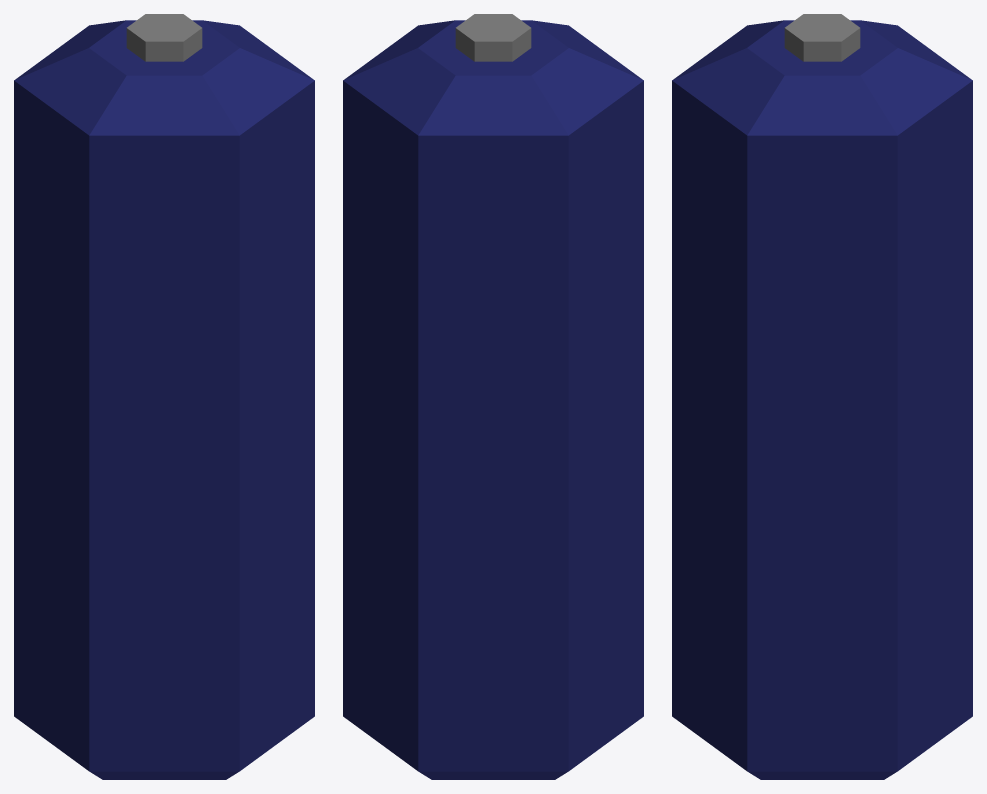
Rendered from BatterySmall.fbx.
3 views of the same model, side by side, from view 1: azimuth 30°, elevation 25°; view 2: azimuth 150°, elevation 25°; view 3: azimuth 270°, elevation 25° (orthographic).
Visible parts, largest first — view 1: Battery_Small; view 2: Battery_Small; view 3: Battery_Small.
Boxes of the visible parts, left/top/right/bottom form: Battery_Small: left=14, top=14, right=314, bottom=779; Battery_Small: left=343, top=14, right=643, bottom=779; Battery_Small: left=672, top=14, right=972, bottom=779.
Bounding box in the file's own units: 2.09 × 6.25 × 2.41.
